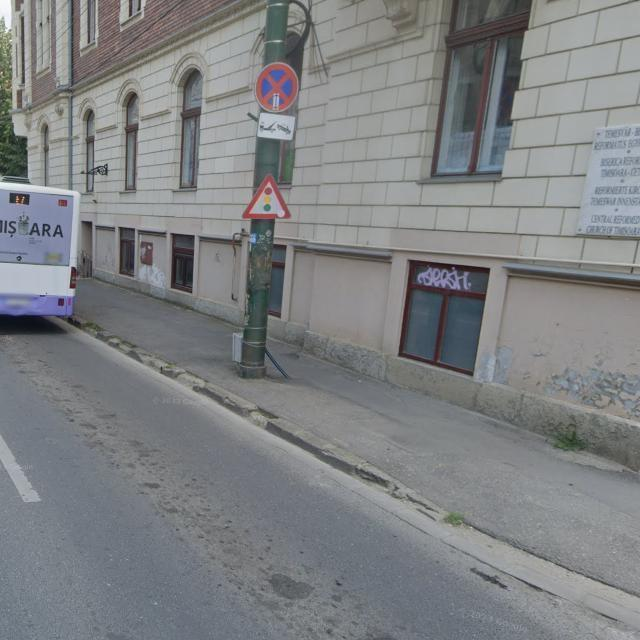forb_waiting: (255, 61, 299, 112)
